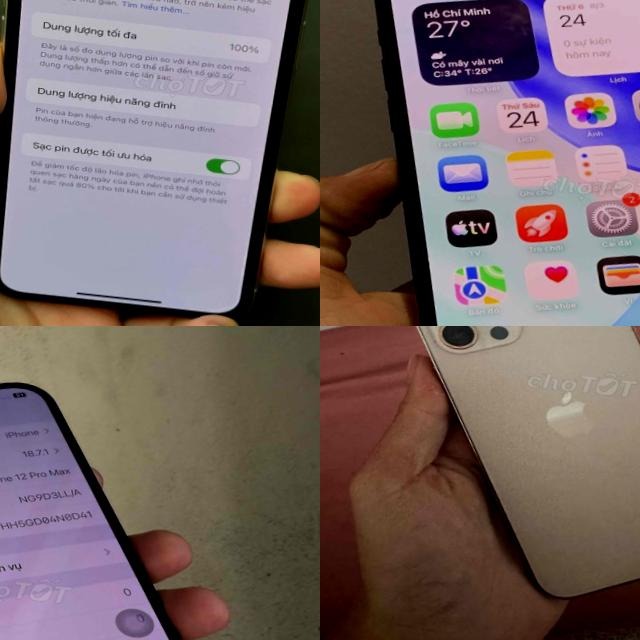gen_11: (320, 0, 640, 326)
gen_12_13: (0, 352, 286, 640), (371, 326, 640, 622)
gen_x_xs: (0, 0, 320, 326)
